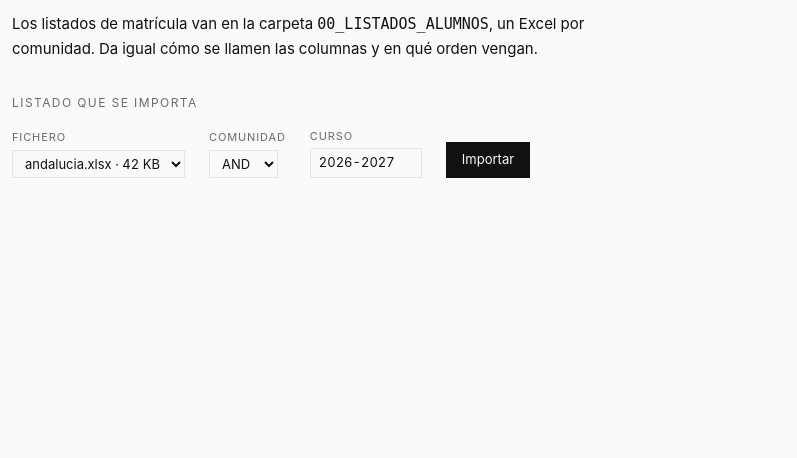
Scenario: Alumnos › dice que ninguna fila dudosa se ha asignado a nadie
Click the button "Importar".
click(488, 160)  # box top-left (446, 142), bottom-right (530, 178)
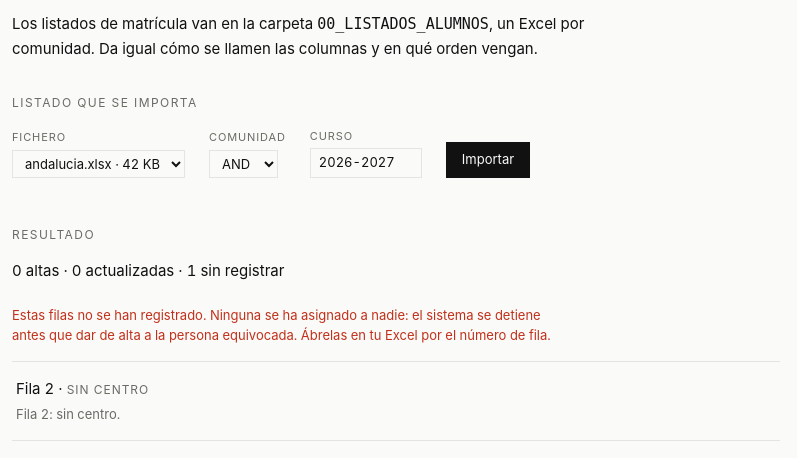
Expected: the text "se detiene antes que dar de alta a la persona equivocada" is shown, top-left (12, 307), bottom-right (551, 342)
